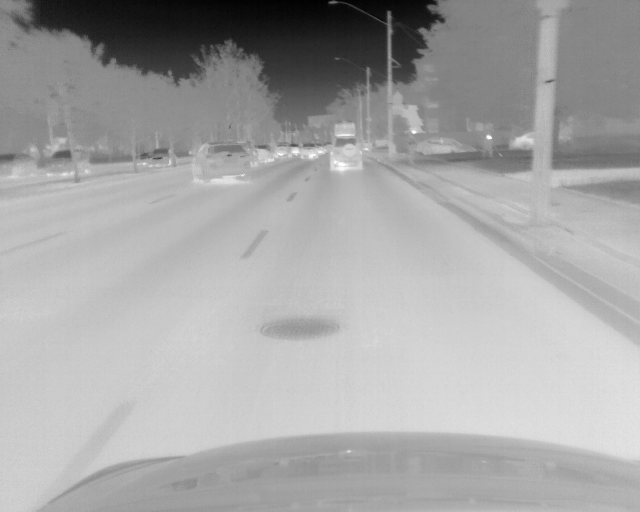car: (190, 141, 251, 184), (43, 149, 93, 181), (410, 136, 476, 158), (329, 135, 365, 172), (510, 130, 563, 152), (1, 153, 38, 179), (151, 148, 178, 169), (253, 144, 274, 162), (301, 142, 317, 161), (275, 142, 290, 159), (137, 151, 151, 168), (291, 144, 299, 156), (318, 143, 326, 155)
people: (480, 119, 497, 162)
